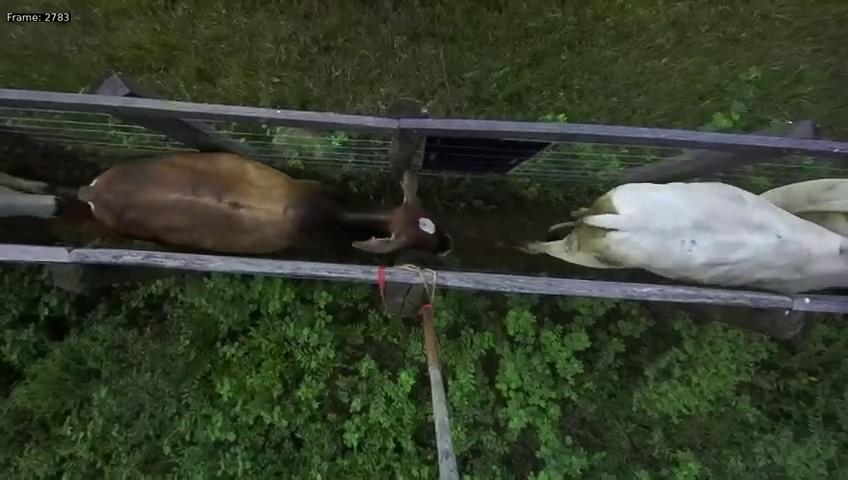cattle: (73, 143, 463, 264), (498, 169, 848, 297)
